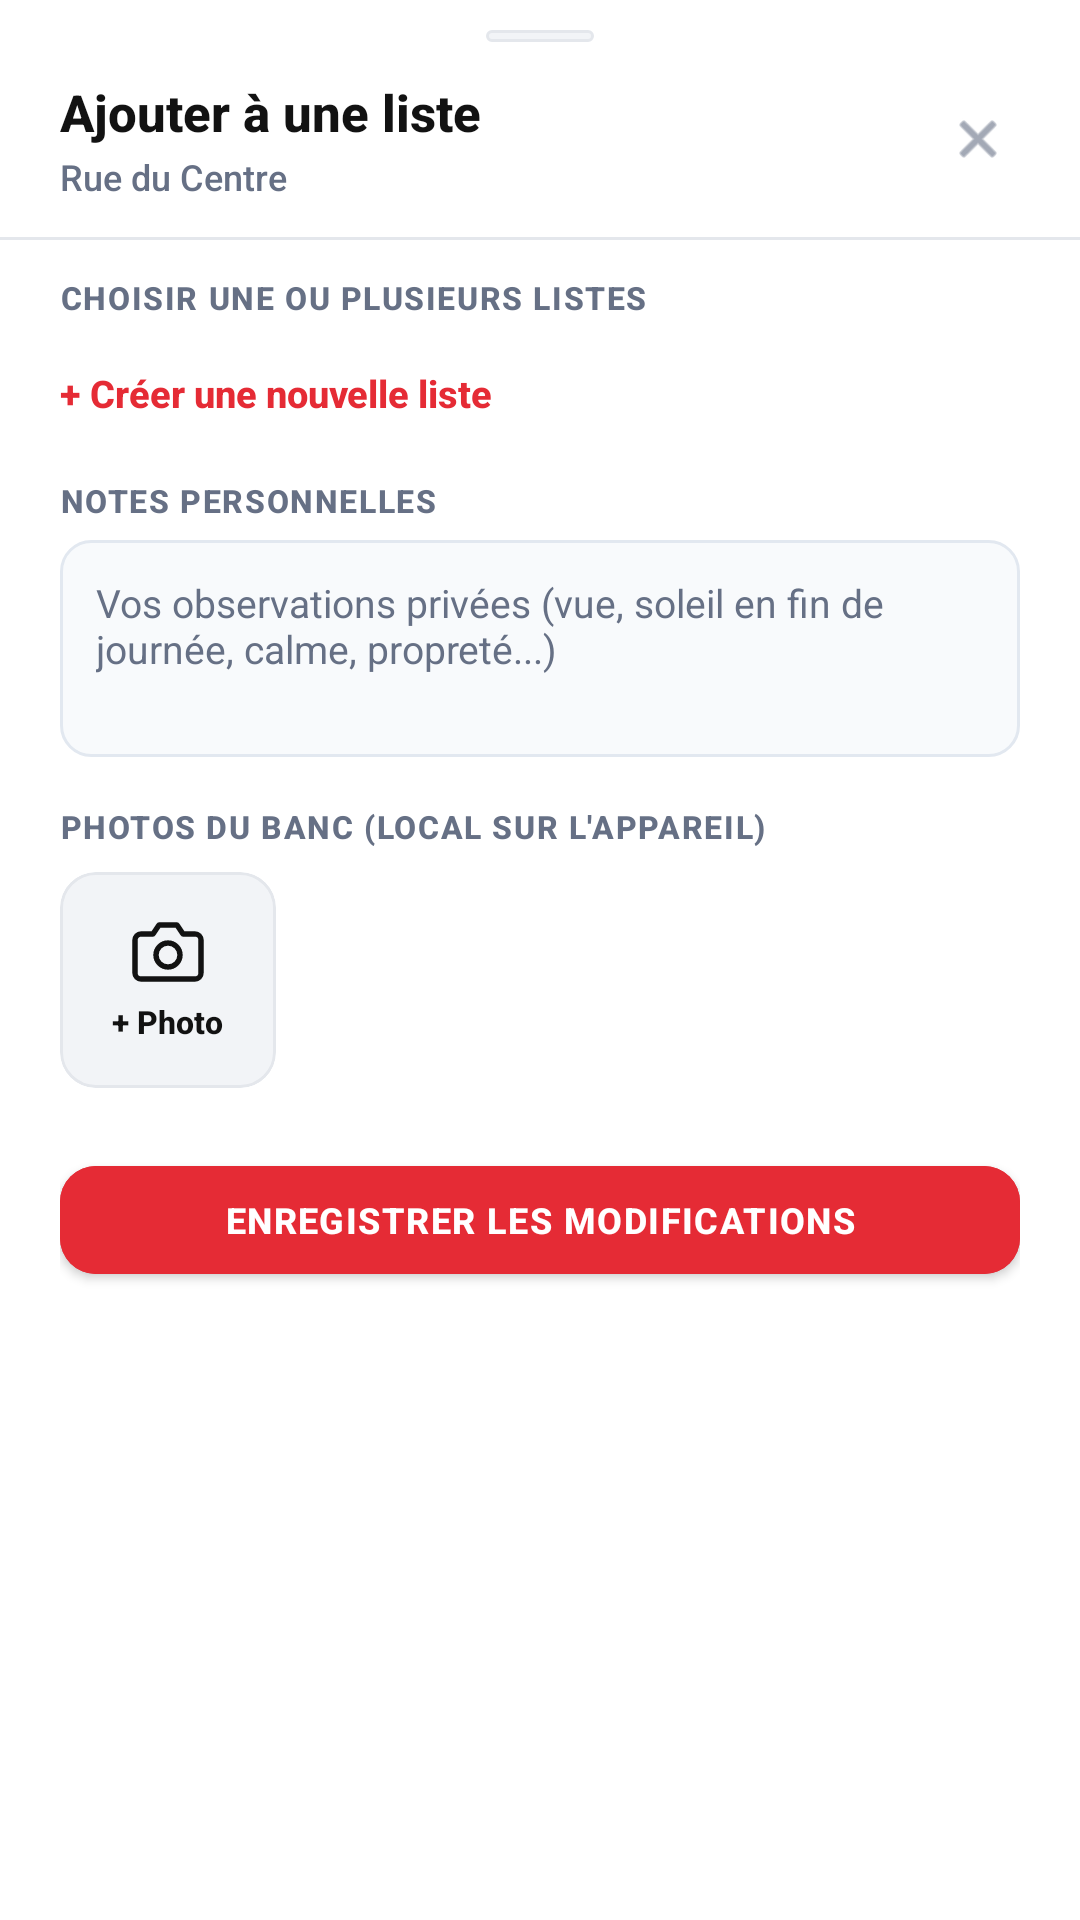

Named icons in this screenshot (1080x1920) and their bounding boxes, (x1, y1, x2, y2):
camera: (132, 922, 204, 982)
Fermer: (959, 120, 997, 158)
